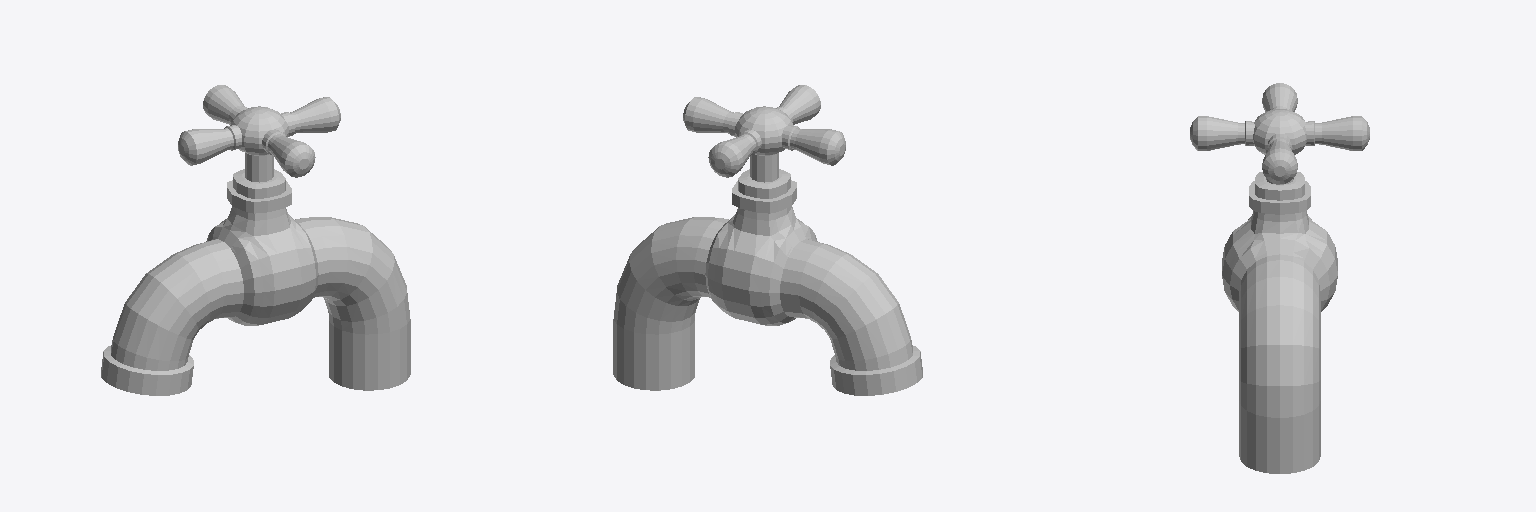
File: Faucet.obj
The picture shows the model from 3 angles: view 1: azimuth 30°, elevation 25°; view 2: azimuth 150°, elevation 25°; view 3: azimuth 270°, elevation 25°; orthographic projection.
Visible parts, largest first — view 1: pSphere3; view 2: pSphere3; view 3: pSphere3.
Part boxes in pixels (left/top/right/bottom): pSphere3: left=101, top=85, right=410, bottom=395; pSphere3: left=613, top=85, right=922, bottom=395; pSphere3: left=1190, top=83, right=1369, bottom=473.
Size of the model in its own units: 4.58 by 4.25 by 2.38.